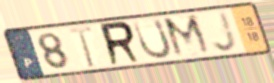8: (36, 31, 73, 71)
J: (211, 10, 240, 54)
M: (160, 13, 215, 60)
R: (98, 19, 144, 68)
T: (67, 24, 96, 70)
U: (130, 17, 174, 62)
